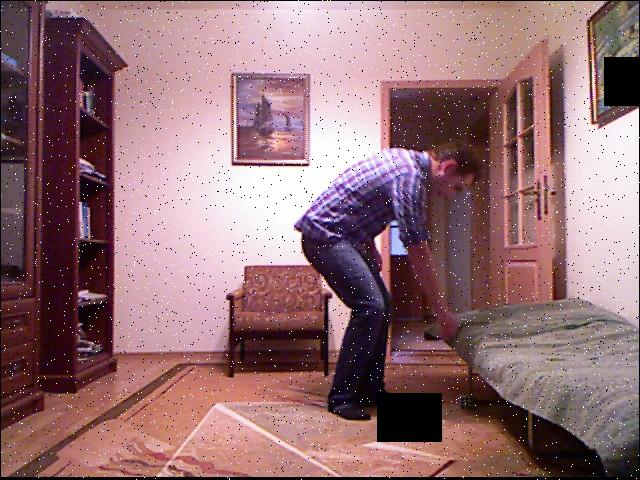bending: (282, 133, 486, 428)
